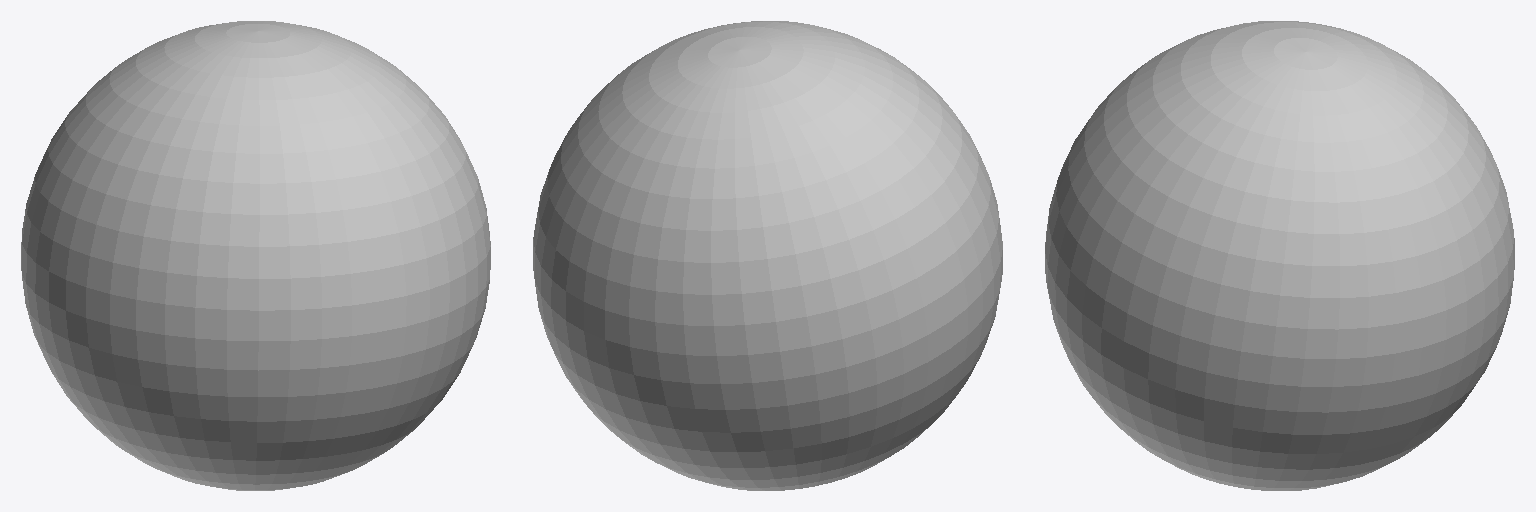
Rendered from ball3.obj.
The picture shows the model from 3 angles: view 1: azimuth 30°, elevation 25°; view 2: azimuth 150°, elevation 25°; view 3: azimuth 270°, elevation 25°; orthographic projection.
Visible parts, largest first — view 1: 球体.3; view 2: 球体.3; view 3: 球体.3.
Part boxes in pixels (left/top/right/bottom): 球体.3: left=21, top=21, right=490, bottom=490; 球体.3: left=533, top=21, right=1002, bottom=490; 球体.3: left=1045, top=21, right=1514, bottom=490.
Size of the model in its own units: 110 by 110 by 110.